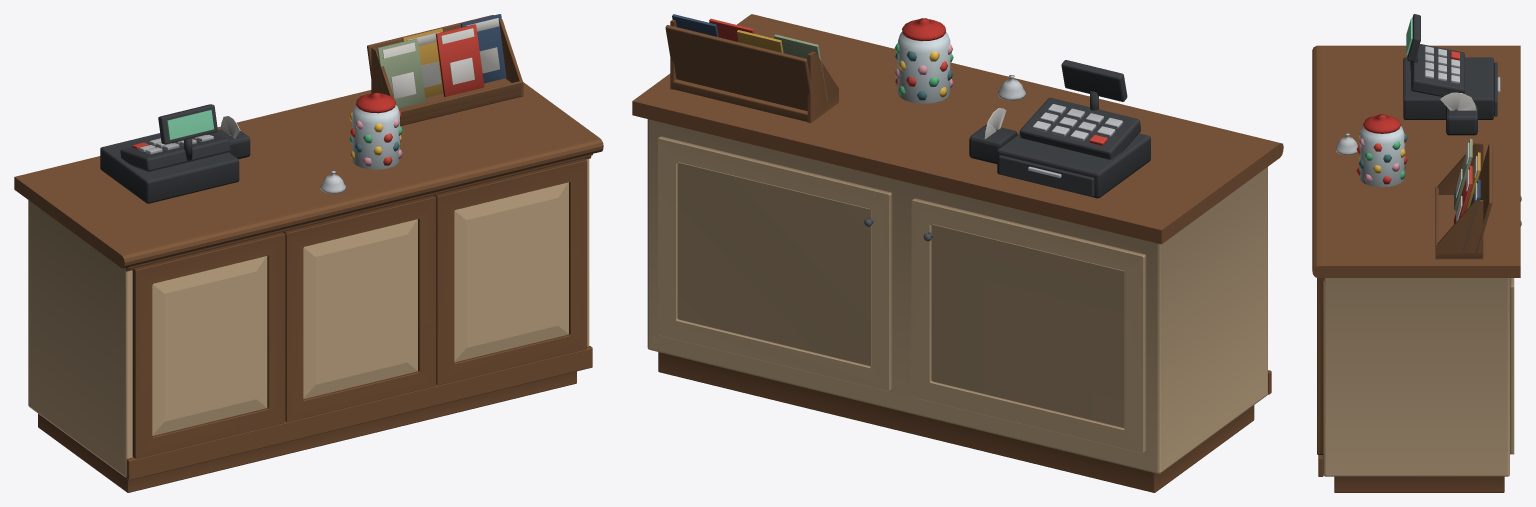
Rendered from shopCounter.glb.
3 views of the same model, side by side, from view 1: azimuth 30°, elevation 25°; view 2: azimuth 150°, elevation 25°; view 3: azimuth 270°, elevation 25° (orthographic). The views are drawn at different scales.
Parts seen in each view (by area): view 1: counter; view 2: counter, cash_drawer; view 3: counter, cash_drawer.
Part boxes in pixels (left/top/right/bottom): counter: left=14, top=14, right=603, bottom=492; counter: left=632, top=14, right=1283, bottom=492; cash_drawer: left=998, top=155, right=1094, bottom=196; counter: left=1312, top=14, right=1521, bottom=492; cash_drawer: left=1494, top=62, right=1500, bottom=116.
Bounding box in the file's own units: 1.96 × 1.28 × 0.7859.
